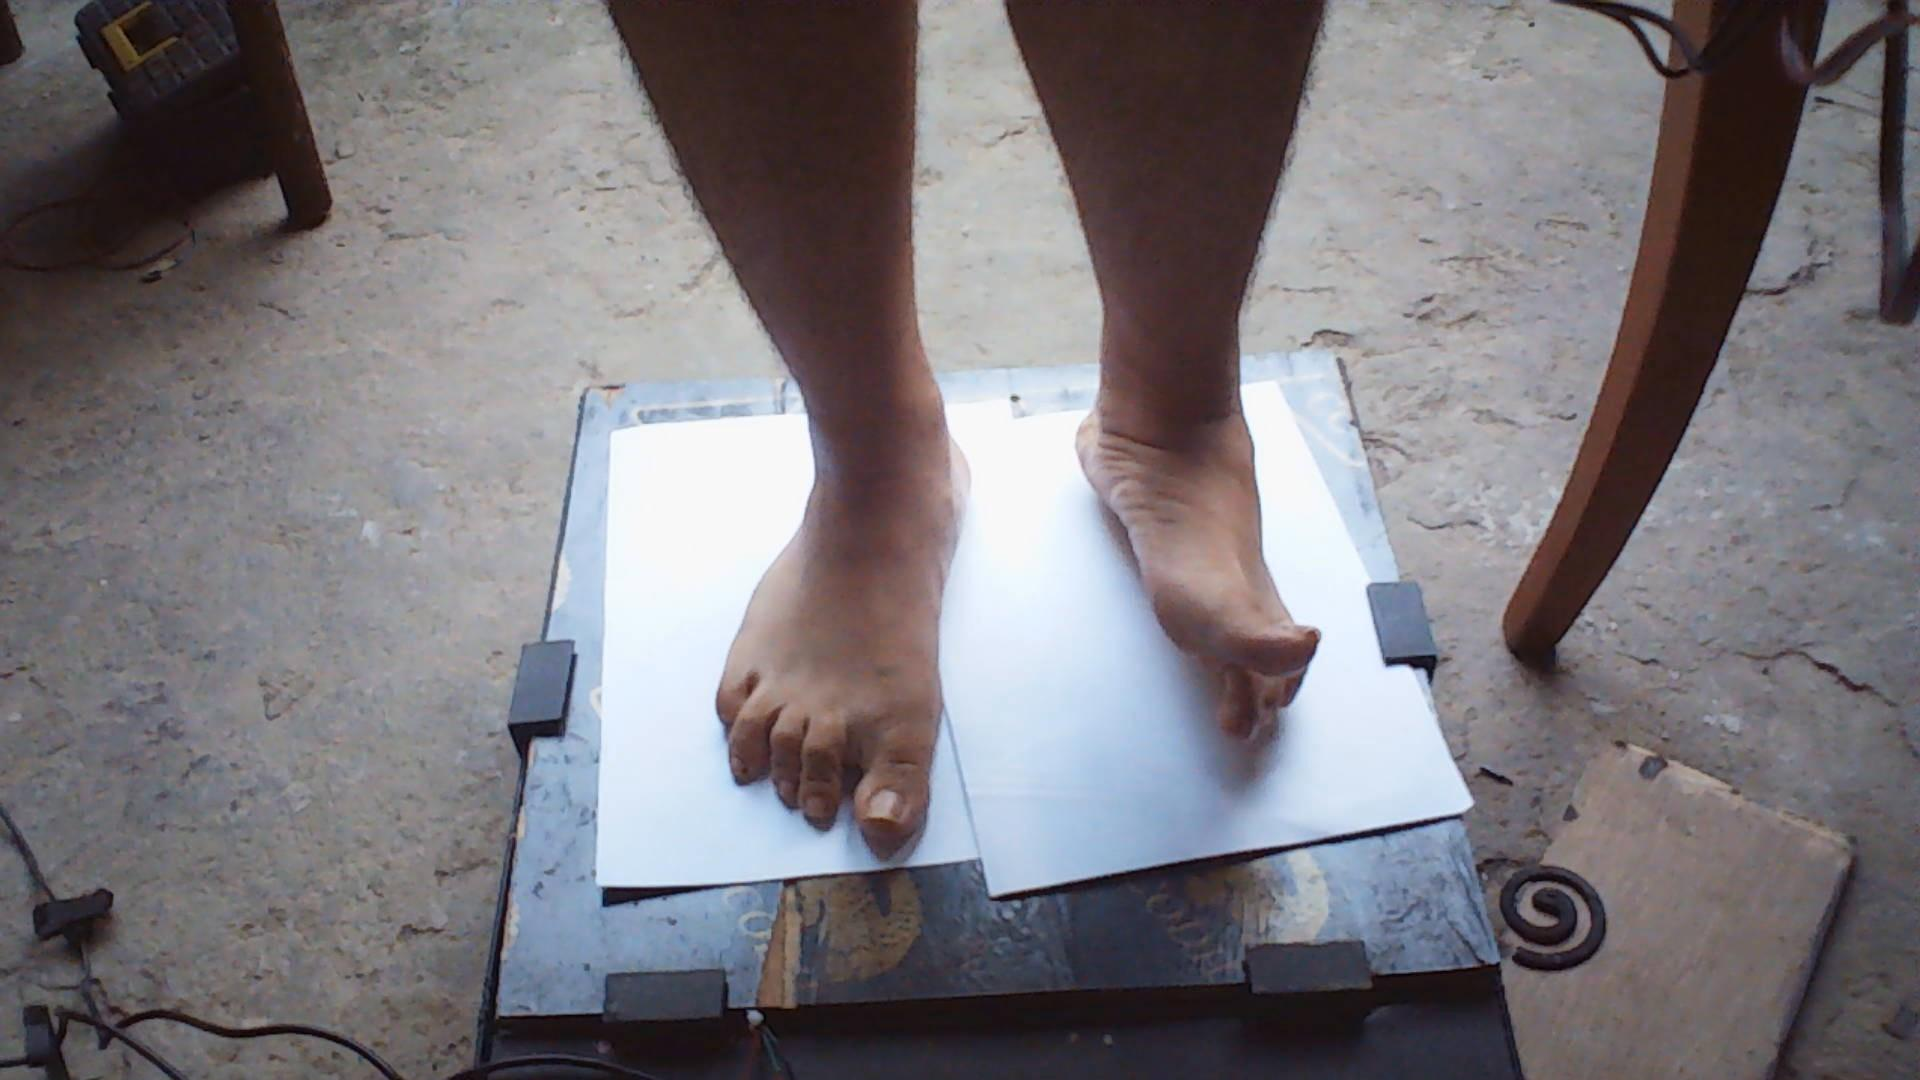Bare_feet: (704, 398, 1007, 857), (1038, 360, 1312, 781)
